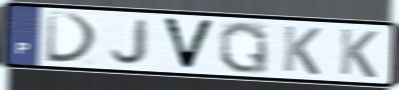D: (44, 10, 102, 65)
J: (109, 17, 152, 66)
K: (337, 27, 380, 80), (280, 24, 323, 77)
Q: (218, 19, 271, 75)
V: (159, 15, 218, 72)
